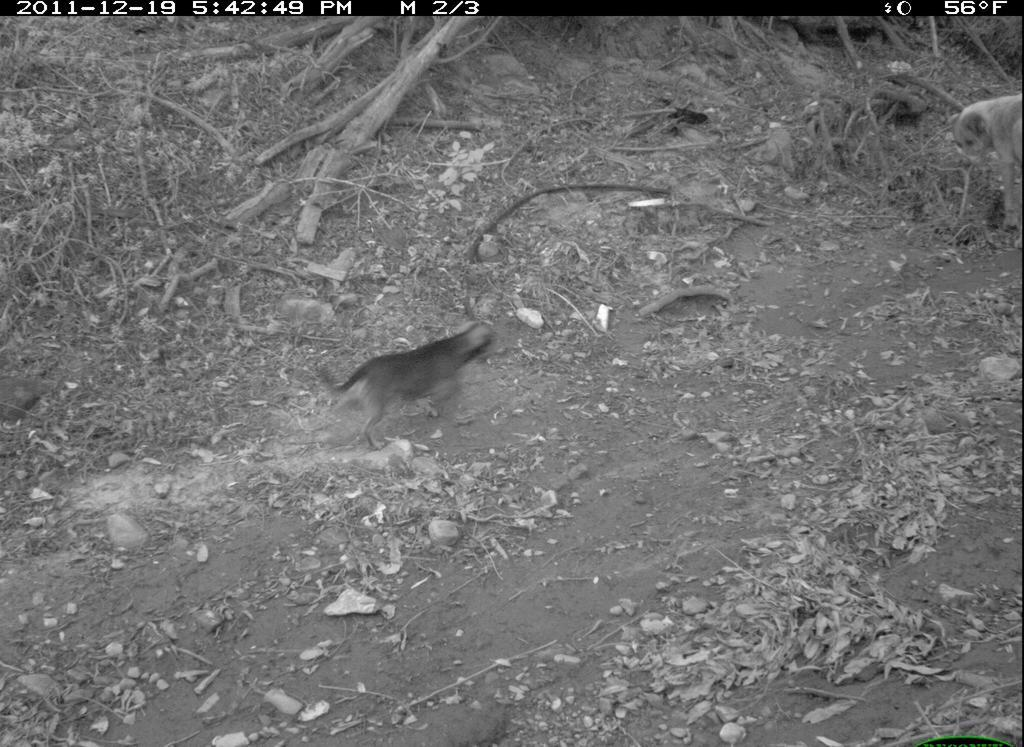dog: (321, 318, 507, 459)
